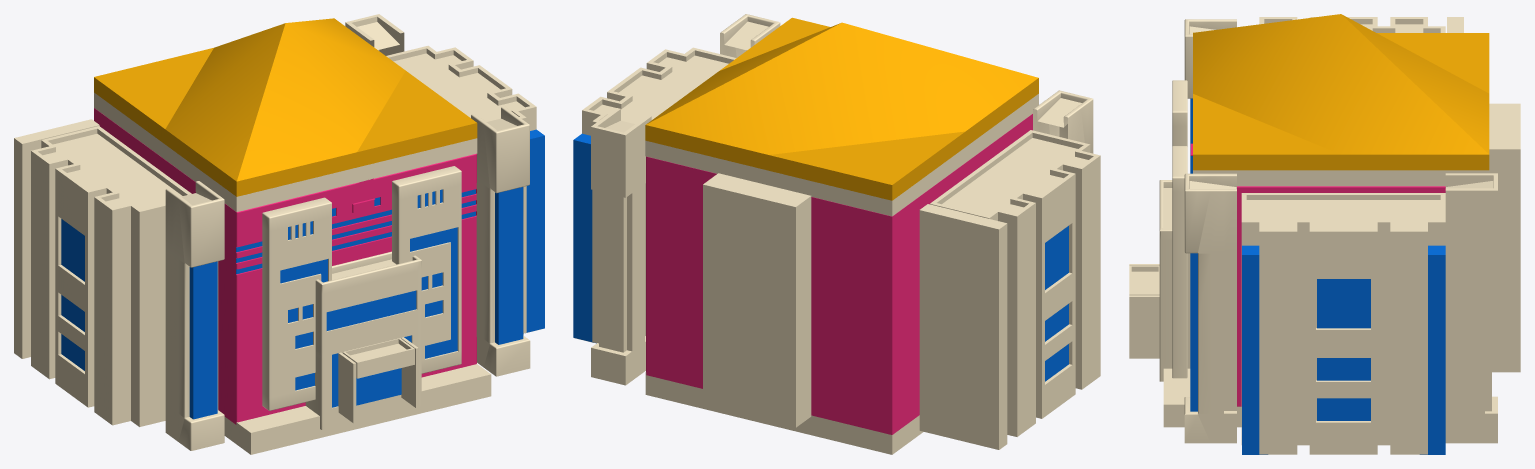
Rendered from 컨퍼런스홀.fbx.
The picture shows the model from 3 angles, left to right: view 1: azimuth 30°, elevation 25°; view 2: azimuth 150°, elevation 25°; view 3: azimuth 270°, elevation 25°; orthographic projection. The views are drawn at different scales.
Visible parts, largest first — view 1: 지붕_1, 오른쪽_1, 몸통, 앞판2_1, 왼쪽1_3, 앞판, 왼쪽1_1, 앞판2, 바닥판, 오른쪽, 지붕, 왼쪽2 (+13 smaller); view 2: 지붕_1, 몸통, 오른쪽_1, 맨뒷판, 왼쪽2, 왼쪽1_2, 오른쪽, 지붕, 바닥판, Cube_114, 왼쪽1_3, Cube_38 (+1 smaller); view 3: 지붕_1, 오른쪽, 왼쪽1_2, 왼쪽1_1, 맨뒷판, Cube_39, 지붕, Cube_114, Cube_40, 앞판2, 앞판, 몸통 (+7 smaller).
Boxes of the visible parts, bbox=[...] form: 지붕_1: bbox=[94, 18, 477, 196]; 오른쪽_1: bbox=[31, 126, 191, 426]; 몸통: bbox=[94, 108, 476, 424]; 앞판2_1: bbox=[262, 197, 331, 410]; 왼쪽1_3: bbox=[165, 181, 224, 450]; 앞판: bbox=[305, 251, 421, 429]; 왼쪽1_1: bbox=[471, 106, 530, 376]; 앞판2: bbox=[392, 166, 461, 373]; 바닥판: bbox=[224, 364, 491, 454]; 오른쪽: bbox=[386, 45, 536, 333]; 지붕: bbox=[94, 92, 477, 211]; 왼쪽2: bbox=[14, 119, 99, 358]; 지붕_1: bbox=[645, 17, 1038, 200]; 몸통: bbox=[646, 114, 1032, 434]; 오른쪽_1: bbox=[930, 130, 1100, 436]; 맨뒷판: bbox=[703, 173, 811, 427]; 왼쪽2: bbox=[919, 204, 1007, 449]; 왼쪽1_2: bbox=[591, 108, 651, 385]; 오른쪽: bbox=[582, 47, 736, 342]; 지붕: bbox=[645, 94, 1038, 216]; 바닥판: bbox=[645, 372, 923, 454]; Cube_114: bbox=[573, 133, 596, 343]; 왼쪽1_3: bbox=[1033, 90, 1093, 153]; Cube_38: bbox=[1045, 225, 1068, 381]; 지붕_1: bbox=[1193, 14, 1489, 170]; 오른쪽: bbox=[1241, 193, 1445, 454]; 왼쪽1_2: bbox=[1445, 173, 1497, 443]; 왼쪽1_1: bbox=[1184, 173, 1236, 443]; 맨뒷판: bbox=[1489, 103, 1520, 372]; Cube_39: bbox=[1317, 279, 1370, 420]; 지붕: bbox=[1193, 170, 1489, 186]; Cube_114: bbox=[1420, 245, 1445, 454]; Cube_40: bbox=[1242, 245, 1267, 454]; 앞판2: bbox=[1172, 146, 1187, 378]; 앞판: bbox=[1159, 180, 1190, 381]; 몸통: bbox=[1190, 143, 1445, 406].
Bounding box in the file's own units: 621 × 475 × 478.
